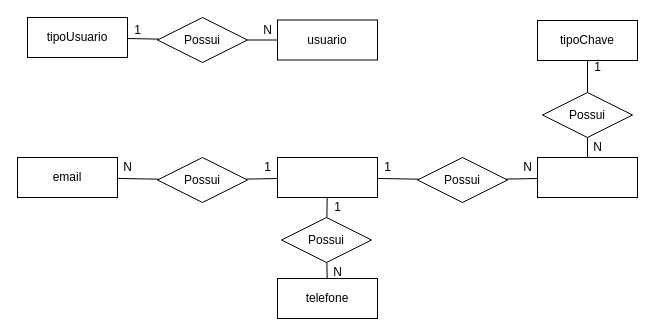
The diagram is 655 pixels wide and 336 high, and some of its shapes have lost their labels. The shapes that lost their labels are listed below. From the top down, each one's centre as x and y in pixels, then its label:
point (327, 177): cliente
point (587, 177): chaveAcesso
